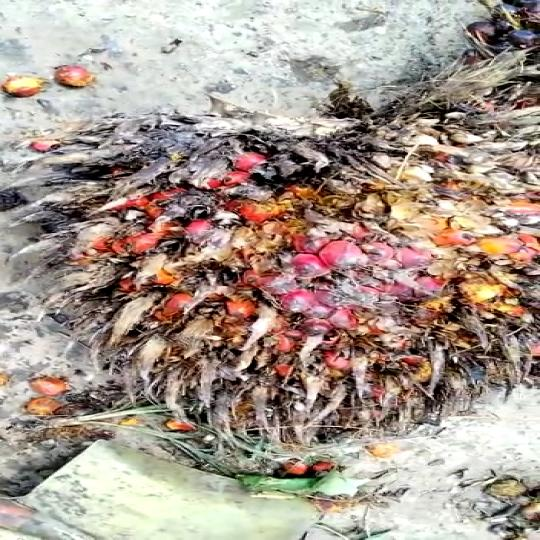terlalu masak: (0, 102, 540, 464)
